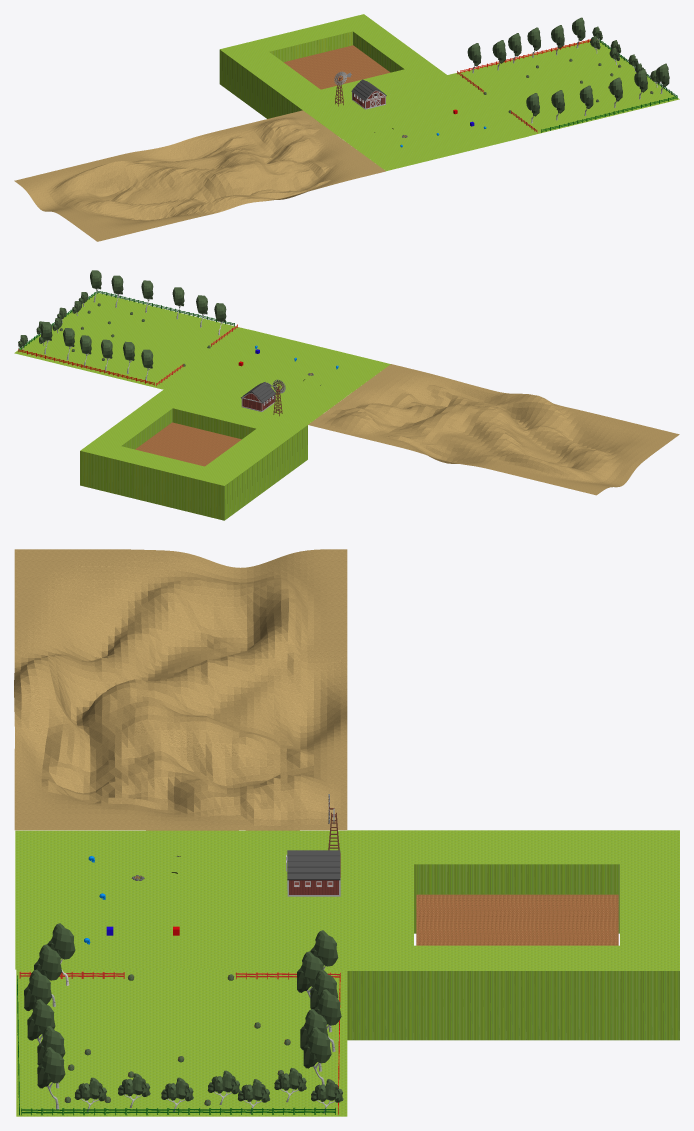
3 renders of one model, top to bottom at view 1: azimuth 30°, elevation 25°; view 2: azimuth 150°, elevation 25°; view 3: azimuth 270°, elevation 25°, orthographic. The views are drawn at different scales.
Parts seen in each view (by area): view 1: dessert, ground, lakeGround, forest, lake, Barn, Fence.001; view 2: dessert, lakeGround, ground, forest, lake, Barn, Fence, Fence.001; view 3: dessert, lakeGround, ground, forest, lake, Barn, Fence.002, BirchTree_2_Cube.003, BirchTree_2_Cube.009.
Part boxes in pixels (left/top/right/bottom): dessert: left=14, top=110, right=385, bottom=241; ground: left=301, top=74, right=528, bottom=171; lakeGround: left=219, top=14, right=446, bottom=122; forest: left=446, top=39, right=679, bottom=135; lake: left=284, top=45, right=390, bottom=89; Barn: left=351, top=79, right=386, bottom=109; Fence.001: left=541, top=96, right=677, bottom=132; dessert: left=308, top=364, right=679, bottom=495; lakeGround: left=80, top=390, right=307, bottom=520; ground: left=163, top=329, right=390, bottom=426; forest: left=14, top=293, right=247, bottom=389; lake: left=135, top=422, right=241, bottom=466; Barn: left=241, top=382, right=275, bottom=411; Fence: left=18, top=349, right=154, bottom=385; Fence.001: left=97, top=290, right=234, bottom=326; dessert: left=14, top=549, right=347, bottom=830; lakeGround: left=347, top=830, right=679, bottom=1040; ground: left=15, top=830, right=356, bottom=969; forest: left=16, top=969, right=347, bottom=1116; lake: left=416, top=894, right=618, bottom=945; Barn: left=286, top=850, right=340, bottom=896; Fence.002: left=21, top=1107, right=335, bottom=1115; BirchTree_2_Cube.003: left=37, top=1047, right=65, bottom=1109; BirchTree_2_Cube.009: left=303, top=1027, right=331, bottom=1084.
Bounding box in the file's own units: 404 × 45.4 × 200.
Materials: 173 (5 with a texture image).
